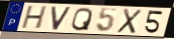5: (95, 8, 118, 34), (144, 10, 164, 34)
H: (20, 6, 49, 31)
Q: (70, 7, 94, 32)
V: (50, 6, 73, 31)
X: (116, 8, 144, 35)
